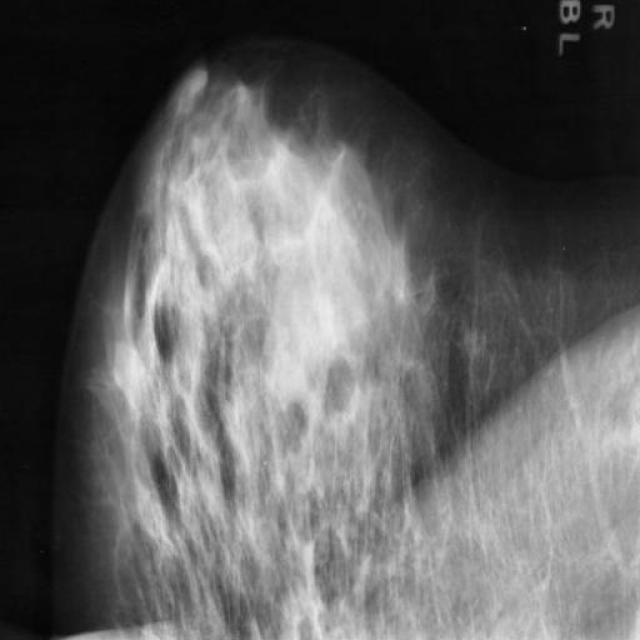cancer: (252, 113, 294, 198)
